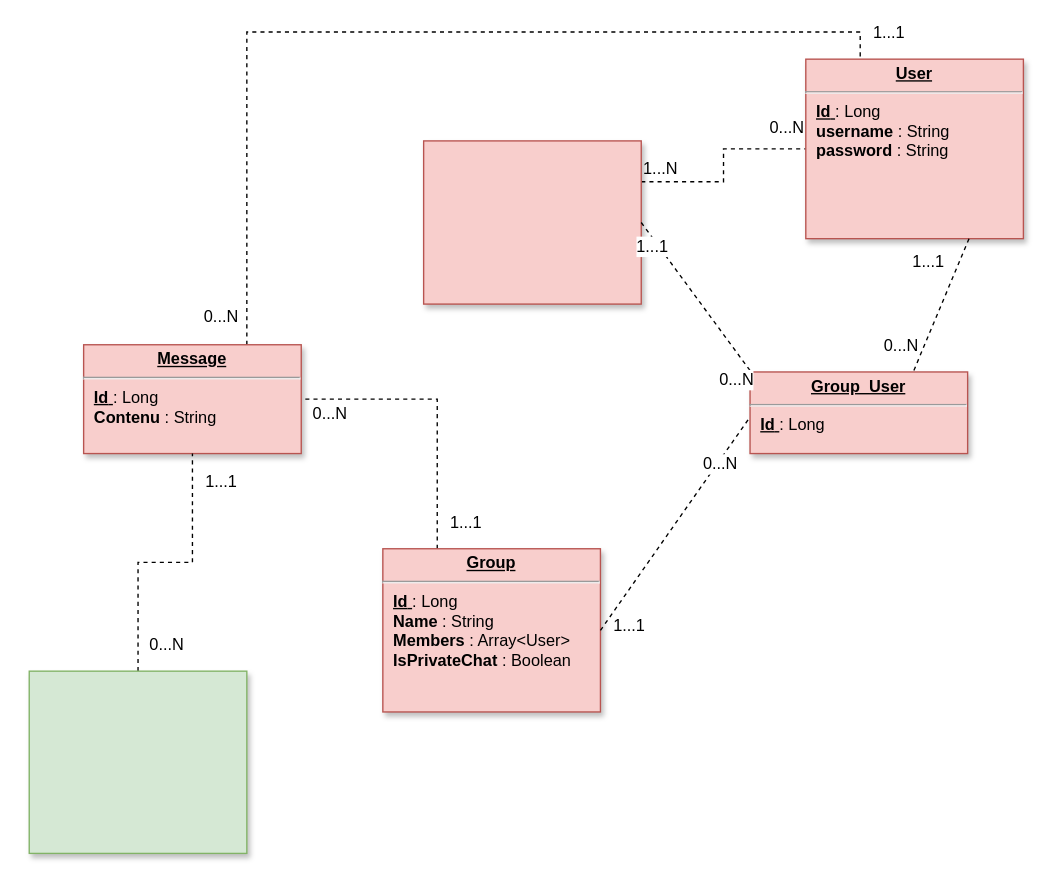
The diagram is 1055 pixels wide and 887 high, and some of its shapes have lost their labels. Each missing label, with the centre of its shape:
"File Id : Long Name : String MessageId : Long" goes at [138,763].
"Role Id : Long Name : String CreatedAt UpdatedAt Enabled" goes at [533,224].
